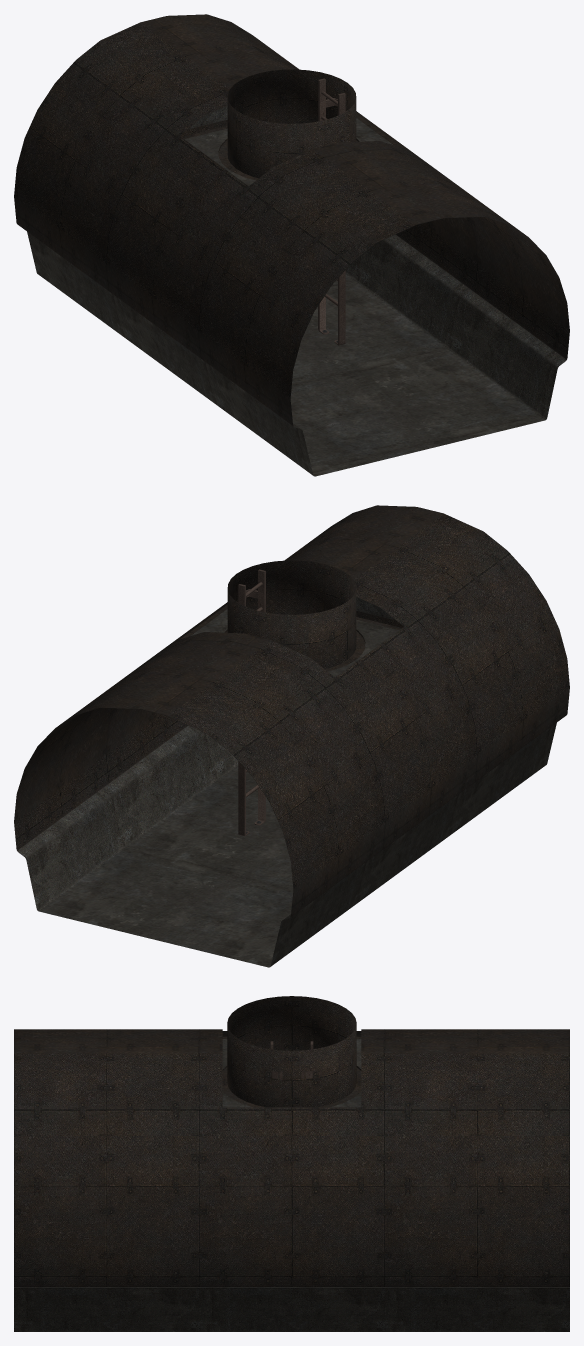
The model's file is tunnel_manhole_shaft_beginning_1.glb.
3 renders of one model, top to bottom at view 1: azimuth 30°, elevation 25°; view 2: azimuth 150°, elevation 25°; view 3: azimuth 270°, elevation 25°, orthographic.
Parts seen in each view (by area): view 1: tunnel_manhole_shaft_beginning_1, shaft_beginning_ladder; view 2: tunnel_manhole_shaft_beginning_1, shaft_beginning_ladder; view 3: tunnel_manhole_shaft_beginning_1.
Boxes of the visible parts, <box> form: tunnel_manhole_shaft_beginning_1: <box>14,14,569,476</box>; shaft_beginning_ladder: <box>318,78,345,345</box>; tunnel_manhole_shaft_beginning_1: <box>14,505,569,967</box>; shaft_beginning_ladder: <box>238,569,265,836</box>; tunnel_manhole_shaft_beginning_1: <box>14,996,569,1331</box>.
Size of the model in its own units: 3.5 by 3 by 6.
Materials: 4 (4 with a texture image).
